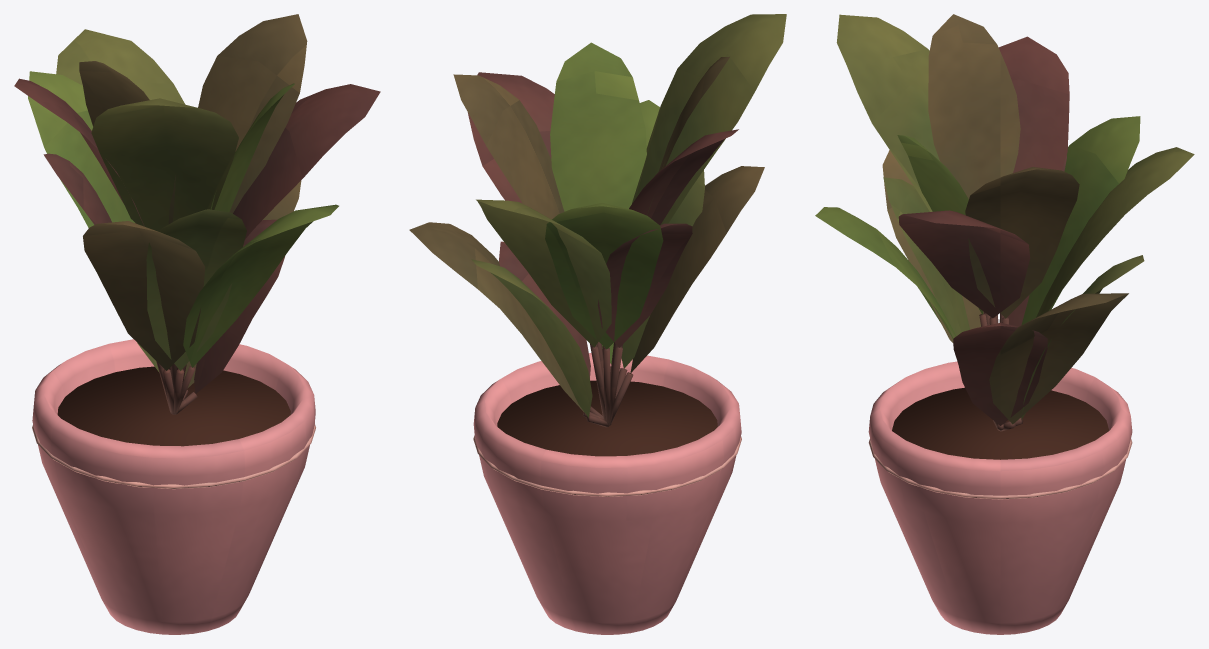
The model's file is WC_CAFE_Planter_Floor_A.glb.
3 views of the same model, side by side, from view 1: azimuth 30°, elevation 25°; view 2: azimuth 150°, elevation 25°; view 3: azimuth 270°, elevation 25° (orthographic). The views are drawn at different scales.
Parts seen in each view (by area): view 1: WC_CAFE_Planter_Floor_A_DesignedMesh; view 2: WC_CAFE_Planter_Floor_A_DesignedMesh; view 3: WC_CAFE_Planter_Floor_A_DesignedMesh.
Part boxes in pixels (box(x1,y1,x2,y2)): WC_CAFE_Planter_Floor_A_DesignedMesh: box(14, 14, 380, 634); WC_CAFE_Planter_Floor_A_DesignedMesh: box(409, 14, 786, 634); WC_CAFE_Planter_Floor_A_DesignedMesh: box(815, 14, 1194, 634).
Size of the model in its own units: 0.672 by 1.2 by 0.7516.
Materials: 4 (3 with a texture image).
